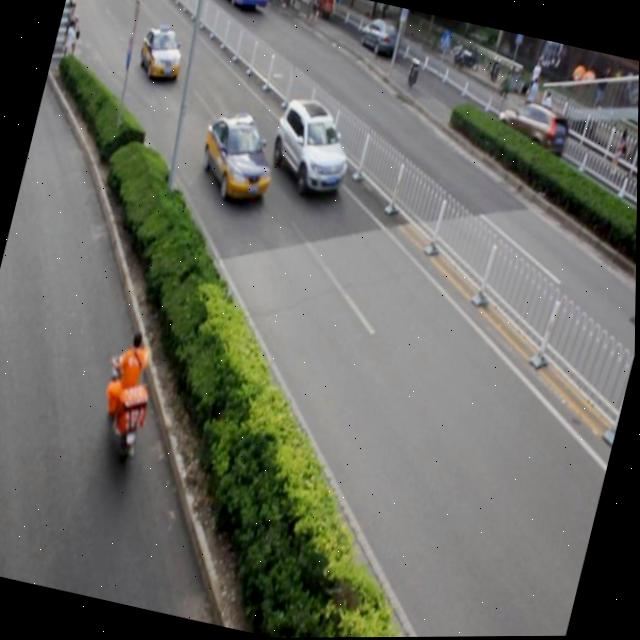car: (265, 96, 361, 202), (191, 108, 284, 211), (485, 94, 573, 170), (133, 19, 189, 87), (354, 14, 404, 63)
van: (194, 0, 270, 15)
